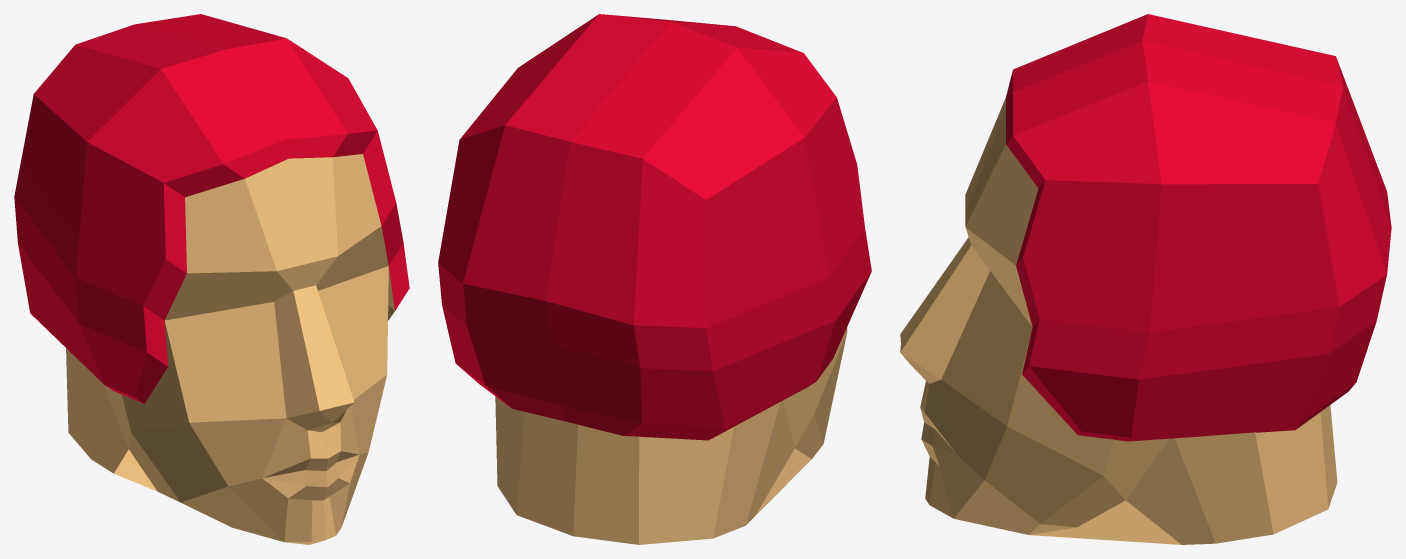
Rendered from human2.fbx.
The picture shows the model from 3 angles, left to right: view 1: azimuth 30°, elevation 25°; view 2: azimuth 150°, elevation 25°; view 3: azimuth 270°, elevation 25°; orthographic projection. The views are drawn at different scales.
Visible parts, largest first — view 1: Plane; view 2: Plane; view 3: Plane.
Part boxes in pixels (<box>): Plane: <box>14,14,409,544</box>; Plane: <box>438,14,871,544</box>; Plane: <box>900,14,1391,544</box>.
Bounding box in the file's own units: 0.7745 × 1.11 × 1.01.
